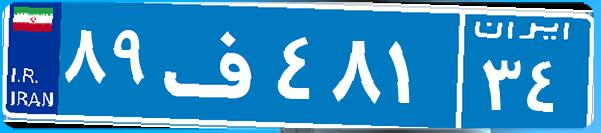1: (385, 28, 445, 110)
3: (475, 38, 525, 113)
4: (273, 28, 330, 110), (525, 38, 570, 115)
8: (330, 28, 385, 110), (57, 26, 110, 107)
9: (110, 28, 158, 105)
ف: (158, 15, 273, 115)
